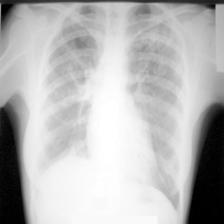tuberculosis: (21, 1, 193, 189)
